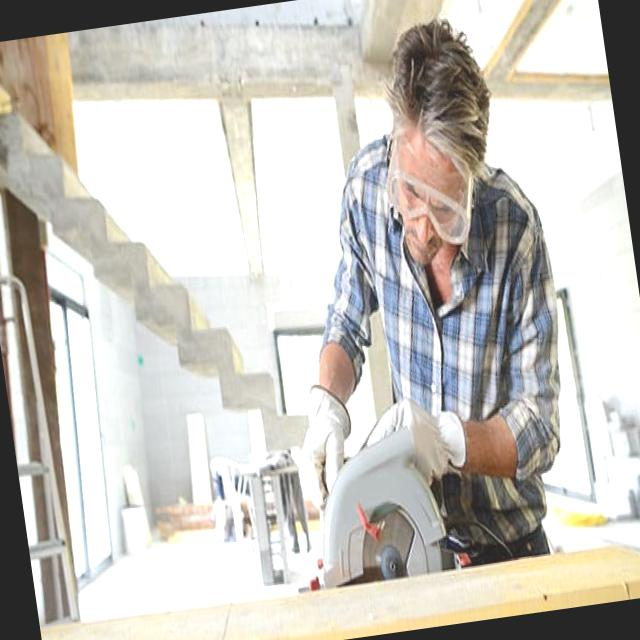goggles: (383, 154, 486, 256)
no-helmet: (370, 14, 509, 180)
no-vest: (375, 206, 563, 480)
